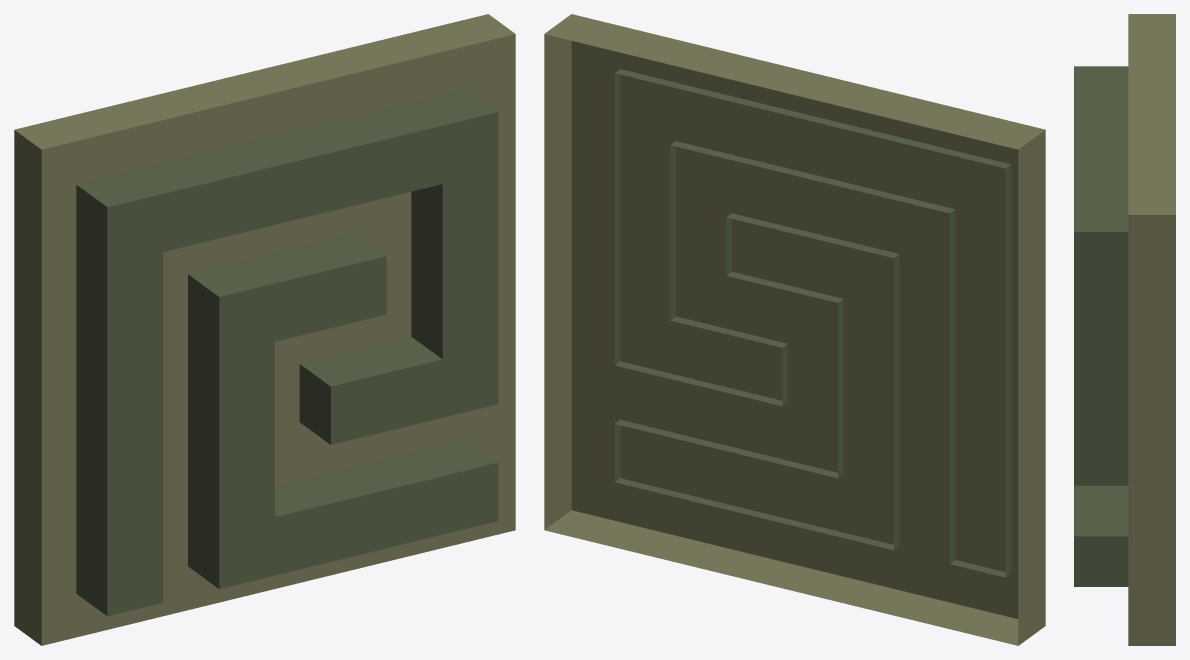
Rendered from decor_small.fbx.
3 renders of one model, left to right at view 1: azimuth 30°, elevation 25°; view 2: azimuth 150°, elevation 25°; view 3: azimuth 270°, elevation 25°, orthographic. The views are drawn at different scales.
Parts seen in each view (by area): view 1: decorsmall, decorsmallplane; view 2: decorsmallplane, decorsmall; view 3: decorsmallplane, decorsmall.
Boxes of the visible parts, box(x1,y1,x2,y2) form: decorsmall: box(76, 89, 498, 616); decorsmallplane: box(14, 14, 515, 645); decorsmallplane: box(544, 14, 1045, 645); decorsmall: box(614, 69, 1011, 577); decorsmallplane: box(1128, 14, 1175, 645); decorsmall: box(1074, 66, 1128, 586).
Size of the model in its own units: 1 by 1 by 0.2143.
